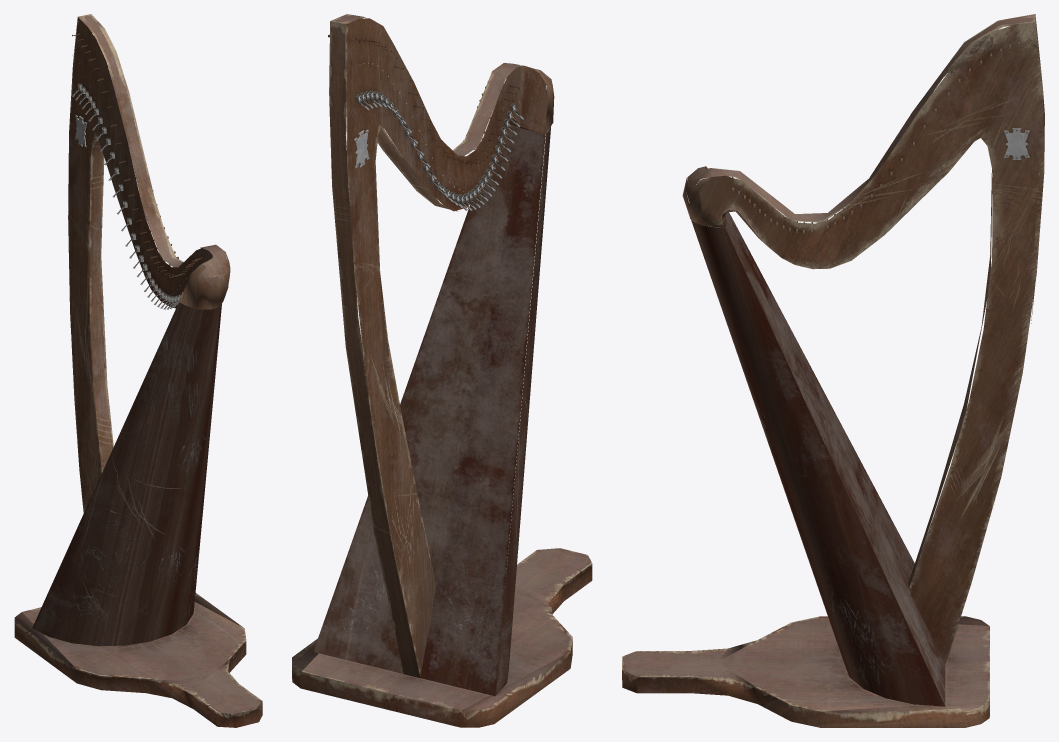
Rendered from harp_wood.glb.
3 views of the same model, side by side, from view 1: azimuth 30°, elevation 25°; view 2: azimuth 150°, elevation 25°; view 3: azimuth 270°, elevation 25° (orthographic). The views are drawn at different scales.
Parts seen in each view (by area): view 1: Object_4; view 2: Object_4; view 3: Object_4.
Boxes of the visible parts, bbox=[...] form: Object_4: bbox=[14, 14, 262, 727]; Object_4: bbox=[292, 14, 592, 727]; Object_4: bbox=[622, 14, 1044, 727].
Bounding box in the file's own units: 0.187 × 0.6137 × 0.3504.
Materials: 1 (1 with a texture image).
